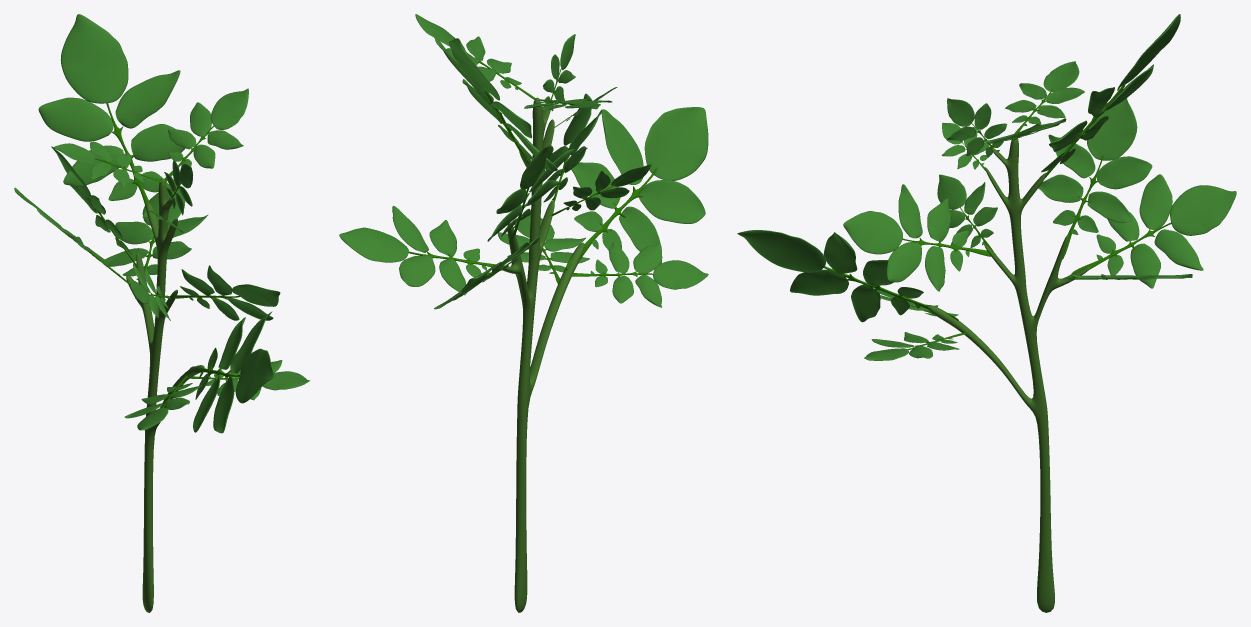
File: potato_3.glb
3 renders of one model, left to right at view 1: azimuth 30°, elevation 25°; view 2: azimuth 150°, elevation 25°; view 3: azimuth 270°, elevation 25°, orthographic. The views are drawn at different scales.
Parts seen in each view (by area): view 1: Plane, Plane.028, Plane.029, Plane.030, Plane.032, Plane.010, Plane.139, Plane.046, Plane.031, Plane.011, Plane.055, Plane.012 (+12 smaller); view 2: Plane, Plane.010, Plane.011, Plane.073, Plane.012, Plane.003, Plane.019, Plane.013, Plane.074, Plane.028, Plane.006, Plane.075 (+9 smaller); view 3: Plane, Plane.218, Plane.010, Plane.173, Plane.055, Plane.110, Plane.011, Plane.174, Plane.056, Plane.012, Plane.220, Plane.068 (+9 smaller).
Boxes of the visible parts, x1,y1,x2,y2 form: Plane: [126, 178, 204, 612]; Plane.028: [60, 14, 128, 103]; Plane.029: [38, 97, 113, 141]; Plane.030: [115, 70, 180, 128]; Plane.032: [131, 124, 185, 161]; Plane.010: [235, 348, 274, 403]; Plane.139: [115, 72, 180, 128]; Plane.046: [210, 89, 248, 129]; Plane.031: [64, 145, 123, 187]; Plane.011: [213, 375, 234, 433]; Plane.055: [232, 284, 280, 306]; Plane.012: [230, 311, 272, 373]; Plane: [502, 97, 584, 612]; Plane.010: [644, 107, 708, 180]; Plane.011: [639, 180, 705, 223]; Plane.073: [339, 227, 408, 262]; Plane.012: [601, 109, 643, 184]; Plane.003: [640, 180, 705, 223]; Plane.019: [653, 260, 708, 289]; Plane.013: [619, 206, 661, 263]; Plane.074: [399, 255, 435, 286]; Plane.028: [449, 38, 499, 100]; Plane.006: [571, 162, 620, 208]; Plane.075: [392, 206, 428, 252]; Plane: [927, 138, 1090, 612]; Plane.218: [1170, 185, 1236, 235]; Plane.010: [737, 230, 825, 272]; Plane.173: [1087, 98, 1137, 160]; Plane.055: [843, 211, 902, 254]; Plane.110: [1139, 174, 1172, 230]; Plane.011: [790, 269, 848, 295]; Plane.174: [1096, 156, 1152, 188]; Plane.056: [886, 242, 921, 282]; Plane.012: [823, 232, 857, 274]; Plane.220: [1154, 229, 1203, 270]; Plane.068: [1039, 174, 1083, 202].
Bounding box in the file's own units: 0.2859 × 0.827 × 0.6292.
